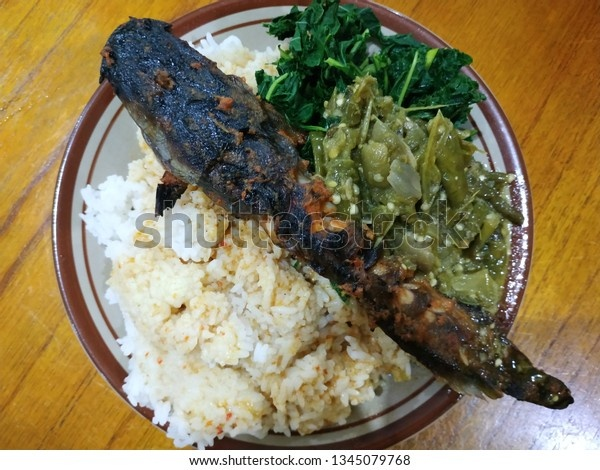pecel_lele: (96, 11, 285, 200)
